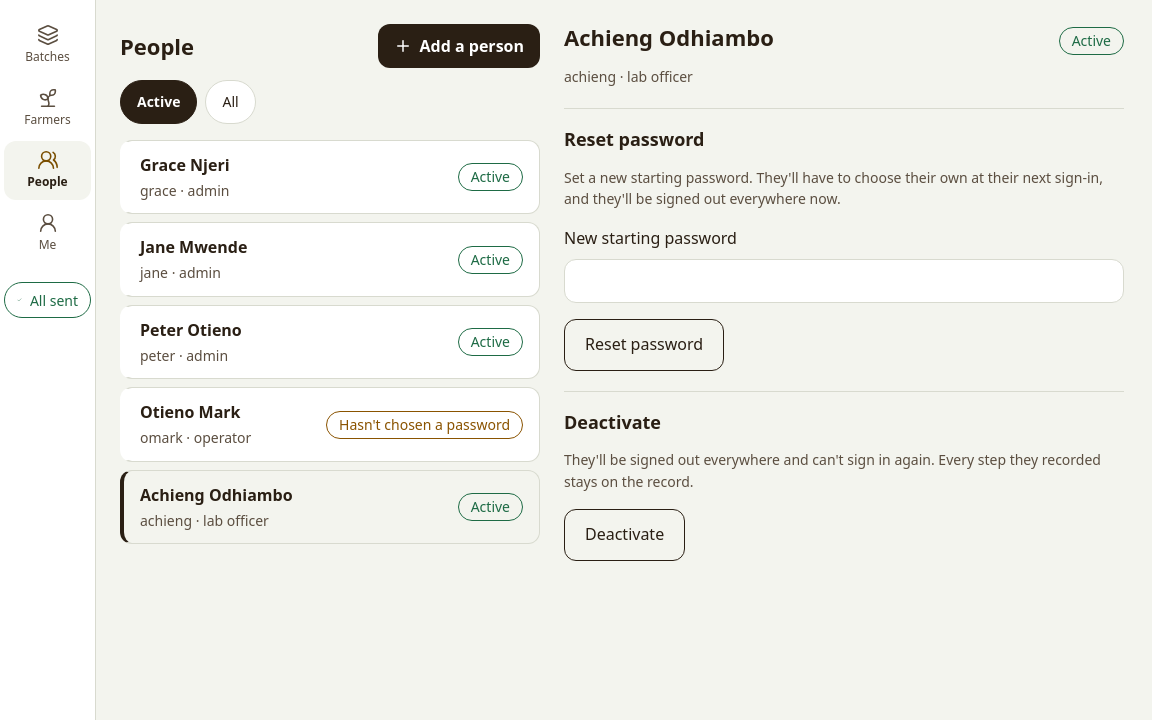
Test: A person › resets a password, so they must choose their own at the next sign-in
The width and height of the screenshot is (1152, 720).
expect the heading "Achieng Odhiambo" is shown: met, box [564,22,774,52]
In the password field labelled "New starting password": (844, 281) [564,259,1124,303], type "a starting sentence for otieno"
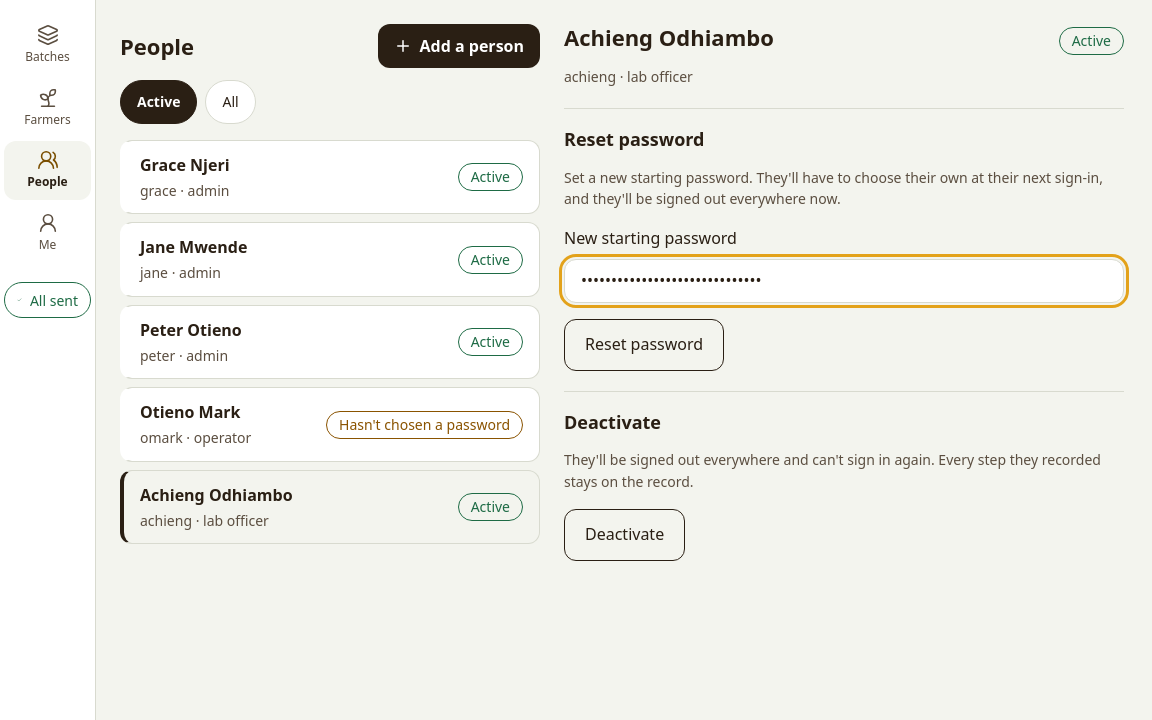
Click the button "Reset password": (644, 345) [564,319,724,371]
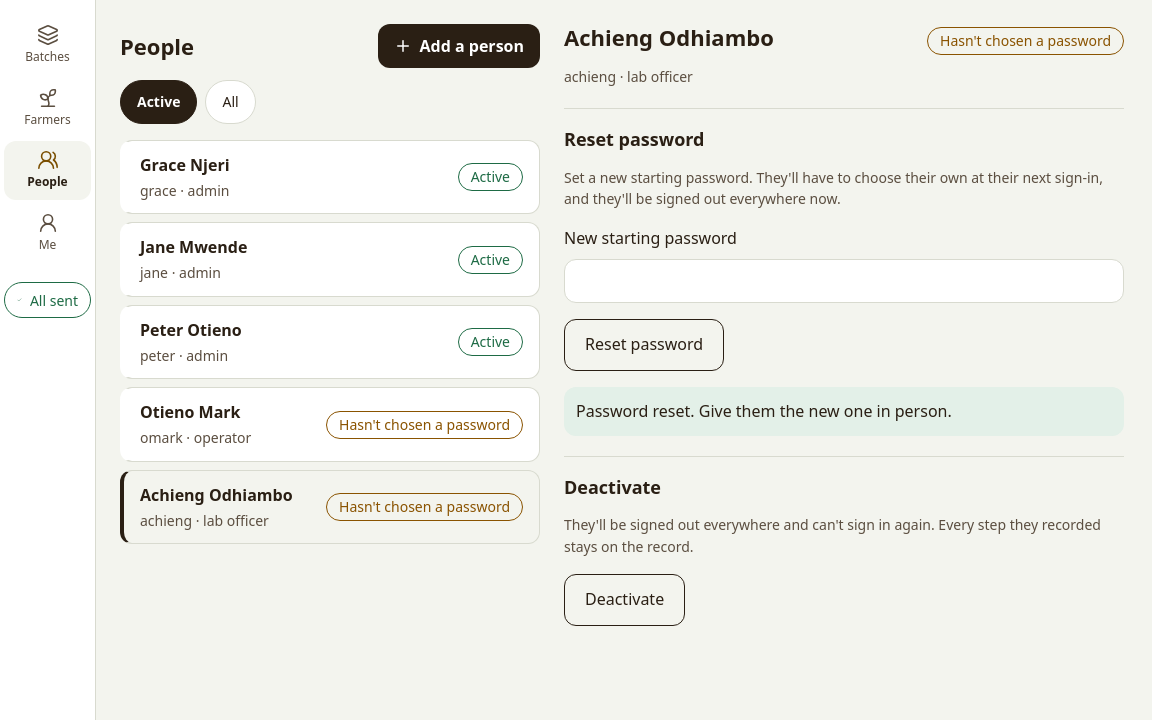
expect the text "Password reset. Give them the new one in person." is shown: met, box [564,387,1124,436]
expect the password field labelled "New starting password" is empty: met, box [564,259,1124,303]
